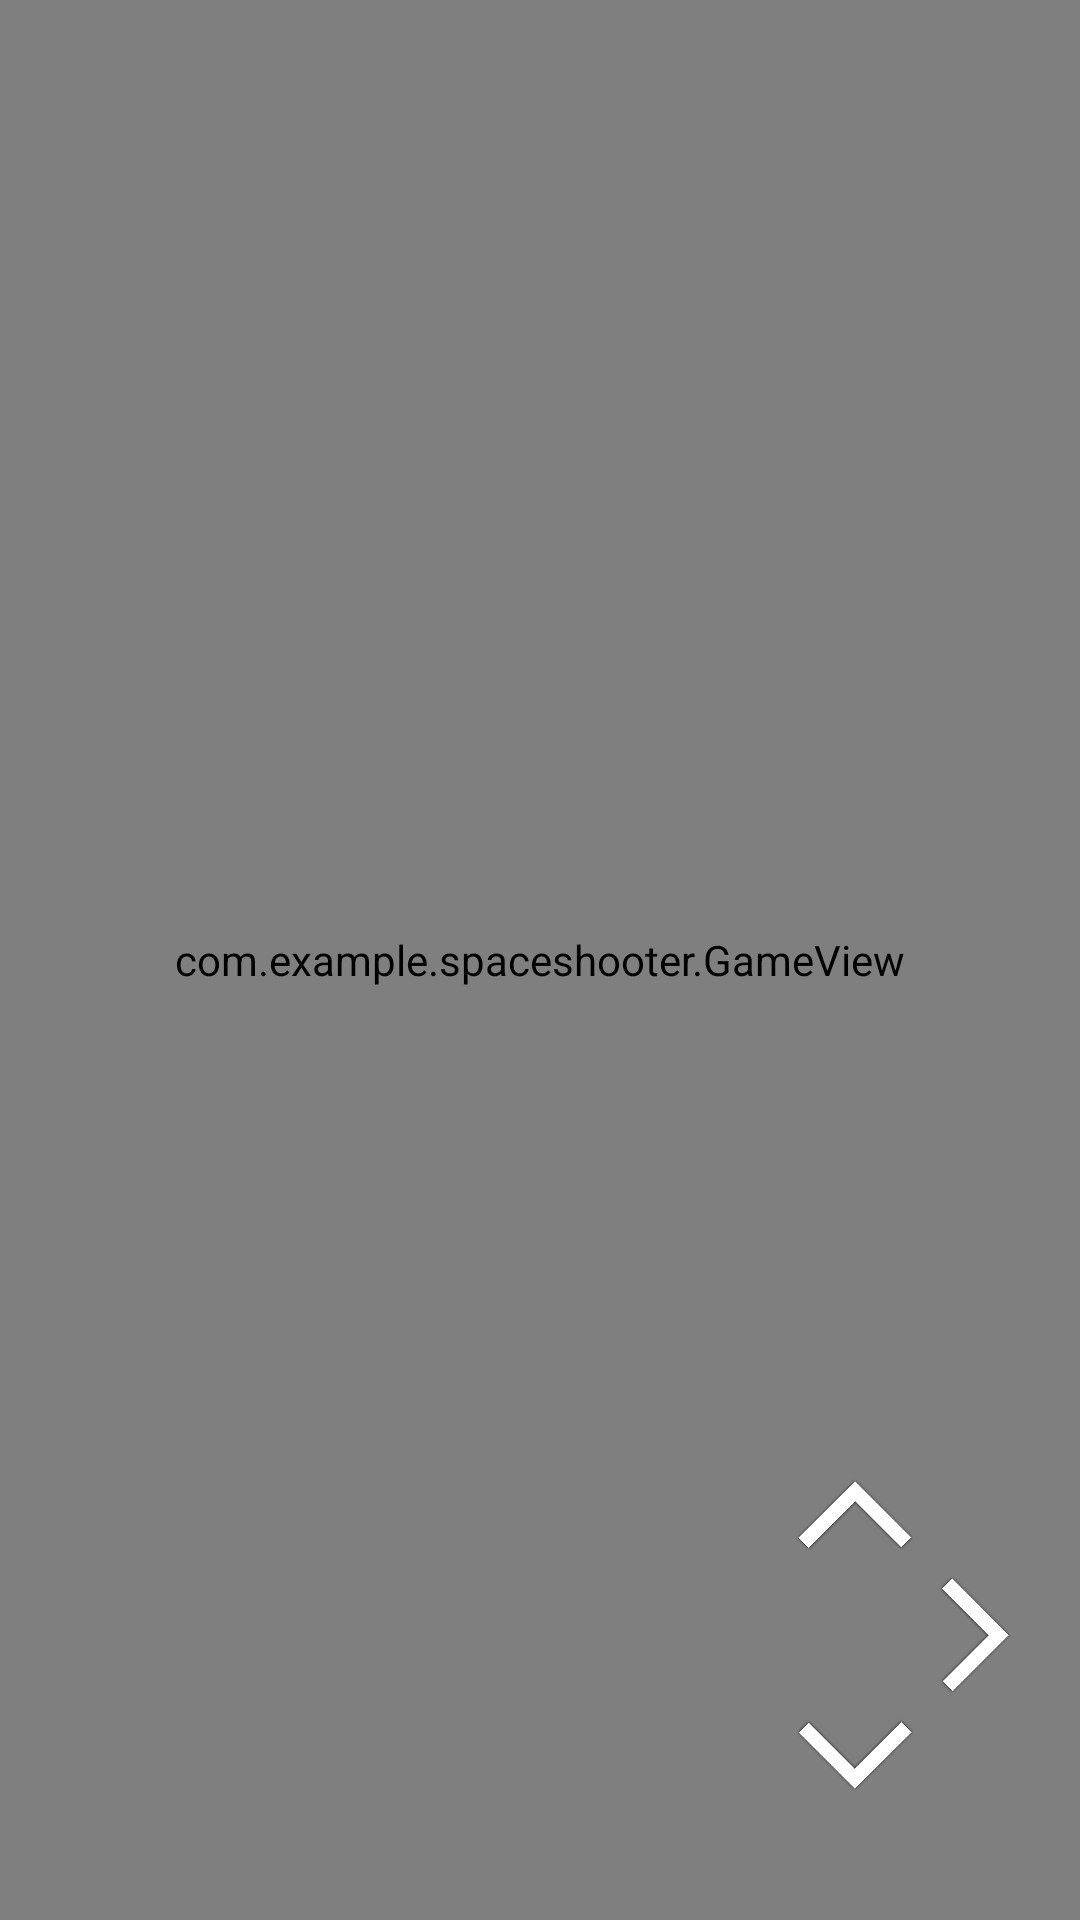

Where to tap for icons on this 1080 x 1920 app screen, as (x,y):
down: (855,1755)
